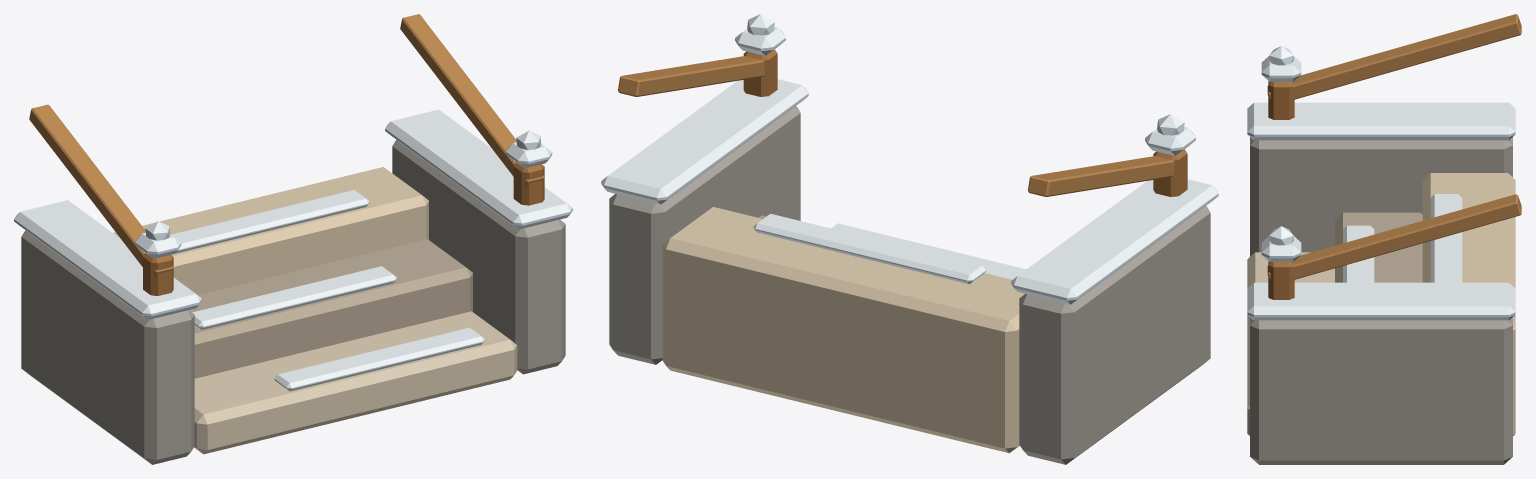
Rendered from stone_stairs_snow.glb.
3 renders of one model, left to right at view 1: azimuth 30°, elevation 25°; view 2: azimuth 150°, elevation 25°; view 3: azimuth 270°, elevation 25°, orthographic. The views are drawn at different scales.
Visible parts, largest first — view 1: stone_stairs_snow; view 2: stone_stairs_snow; view 3: stone_stairs_snow.
Part boxes in pixels (x1,y1,x2,y2): stone_stairs_snow: (14,14,572,464); stone_stairs_snow: (601,14,1218,464); stone_stairs_snow: (1247,14,1521,464).
Size of the model in its own units: 1.88 by 1.08 by 1.04.
